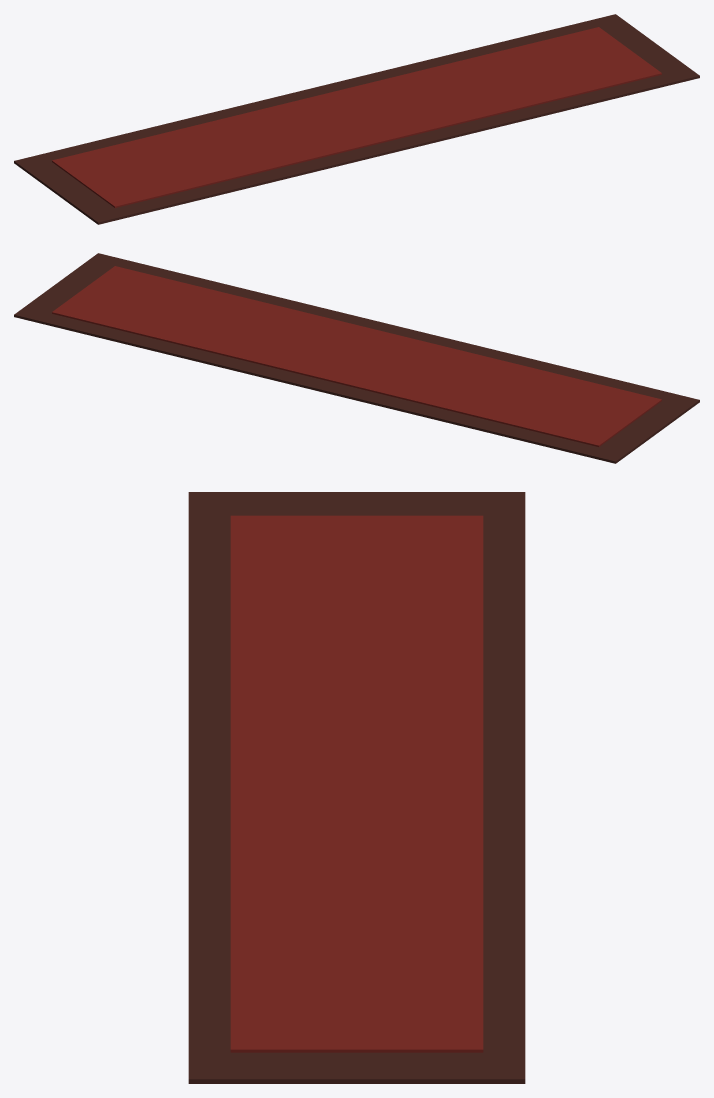
Rendered from s3_seal_floor_mark.glb.
The picture shows the model from 3 angles, top to bottom: view 1: azimuth 30°, elevation 25°; view 2: azimuth 150°, elevation 25°; view 3: azimuth 270°, elevation 25°; orthographic projection. The views are drawn at different scales.
Visible parts, largest first — view 1: s3_seal_floor_mark; view 2: s3_seal_floor_mark; view 3: s3_seal_floor_mark.
Part boxes in pixels (x1,y1,x2,y2): s3_seal_floor_mark: [14, 14, 699, 224]; s3_seal_floor_mark: [14, 253, 699, 463]; s3_seal_floor_mark: [188, 492, 525, 1083].
Bounding box in the file's own units: 3.3 × 0.02 × 0.8.
